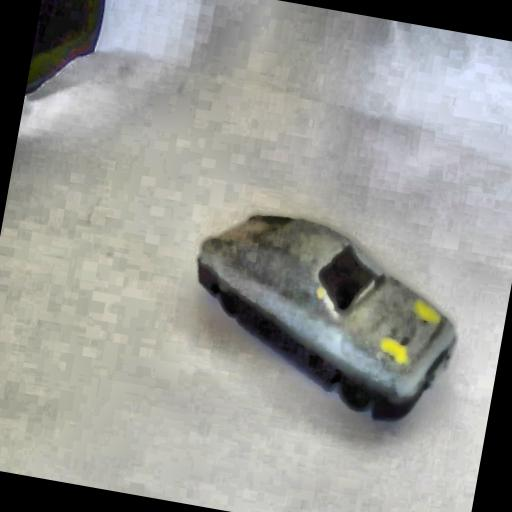normal_car: (171, 195, 474, 432)
